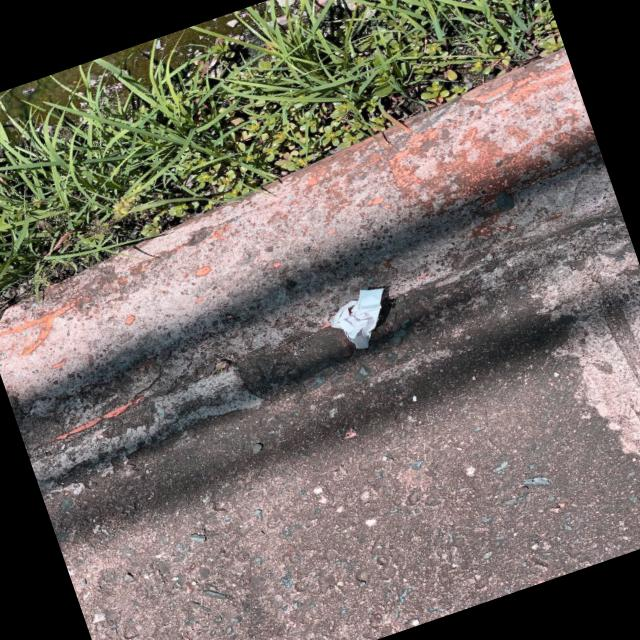less trash: (331, 287, 384, 348)
